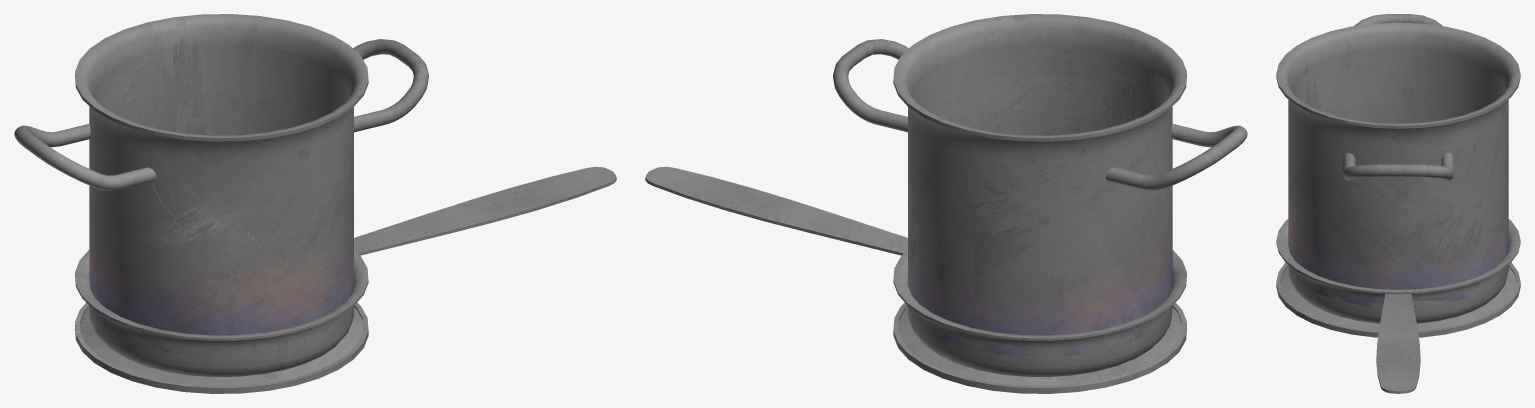
File: Pots and Pans.fbx
3 views of the same model, side by side, from view 1: azimuth 30°, elevation 25°; view 2: azimuth 150°, elevation 25°; view 3: azimuth 270°, elevation 25° (orthographic). The views are drawn at different scales.
Parts seen in each view (by area): view 1: Pot LOW, Pan LOW, Pot Cap LOW; view 2: Pot LOW, Pan LOW, Pot Cap LOW; view 3: Pot LOW, Pan LOW, Pot Cap LOW.
Part boxes in pixels (x1,y1,x2,y2): Pot LOW: (14,14,428,357); Pan LOW: (75,166,616,376); Pot Cap LOW: (75,302,368,393); Pot LOW: (833,14,1247,357); Pan LOW: (645,166,1186,376); Pot Cap LOW: (893,302,1186,393); Pot LOW: (1276,14,1520,307); Pan LOW: (1276,219,1520,393); Pot Cap LOW: (1276,262,1520,337).
Size of the model in its own units: 508 by 213 by 222.
Materials: 1 (1 with a texture image).
